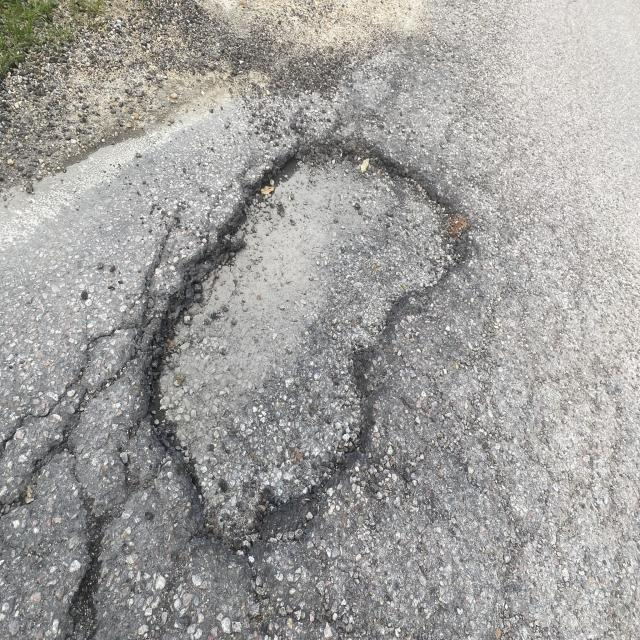Pothole: (117, 103, 496, 594)
